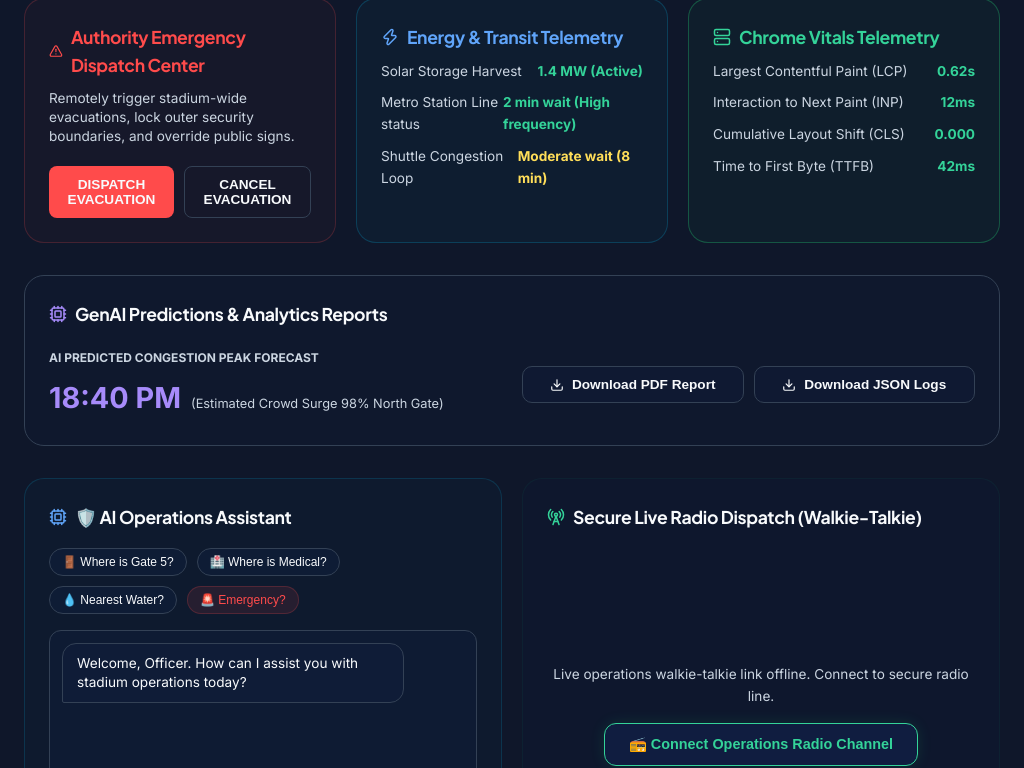
Test: AuthorityDashboard Component › generates PDF and JSON reports successfully
This screenshot has width=1024, height=768.
(page scrolled)
Click the button "Download PDF Report": (633, 385) x1=522 y1=366 x2=744 y2=403
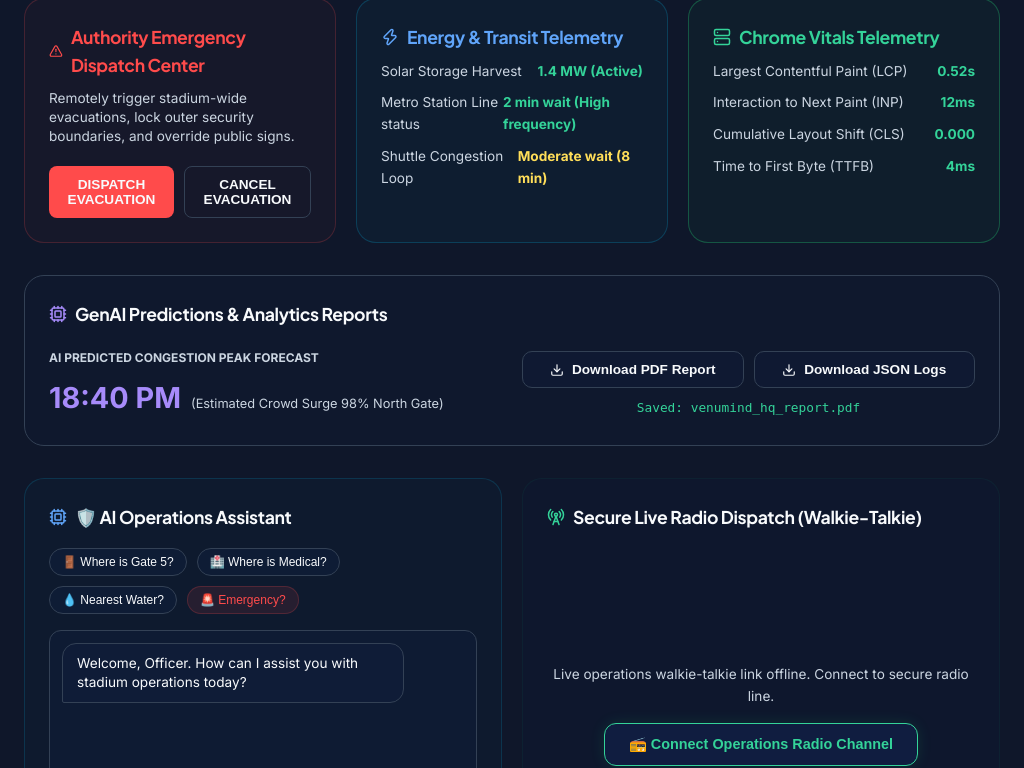
Expected: the text "Saved: venumind_hq_report.pdf" is shown, x1=637 y1=400 x2=860 y2=415
